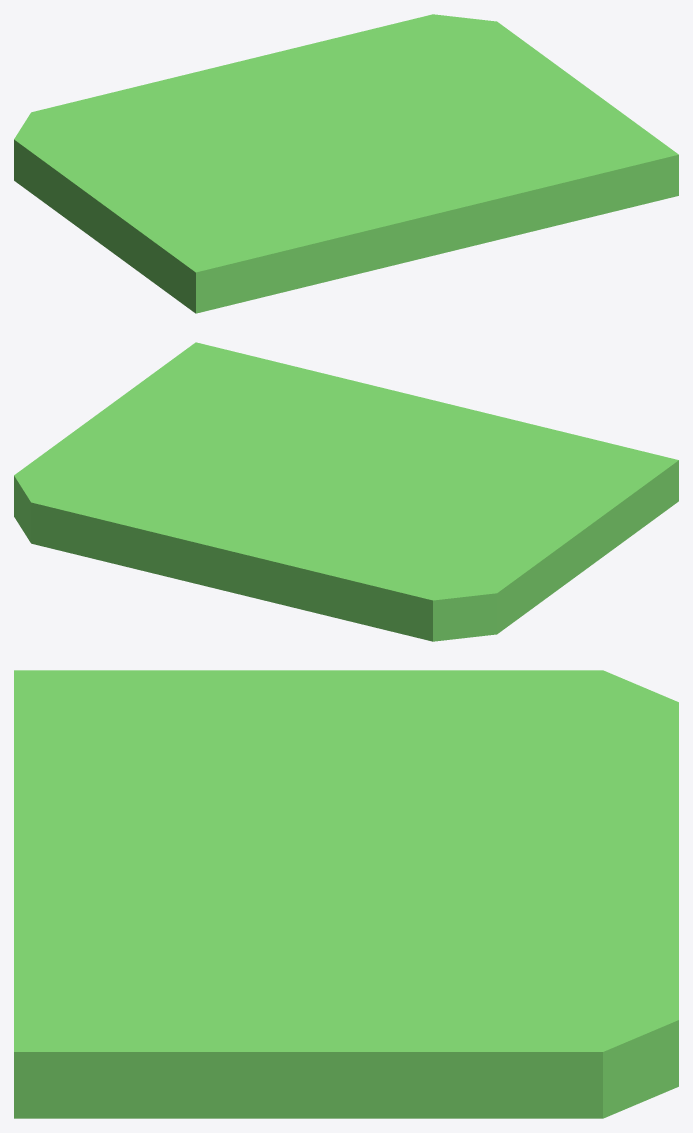
File: sm_Collider9.fbx
The picture shows the model from 3 angles, top to bottom: view 1: azimuth 30°, elevation 25°; view 2: azimuth 150°, elevation 25°; view 3: azimuth 270°, elevation 25°; orthographic projection. The views are drawn at different scales.
Parts seen in each view (by area): view 1: sm_Collider.003; view 2: sm_Collider.003; view 3: sm_Collider.003.
Part boxes in pixels (<box>): sm_Collider.003: <box>14,14,678,313</box>; sm_Collider.003: <box>14,342,678,641</box>; sm_Collider.003: <box>14,670,678,1118</box>.
Size of the model in its own units: 751 by 61.22 by 553.
